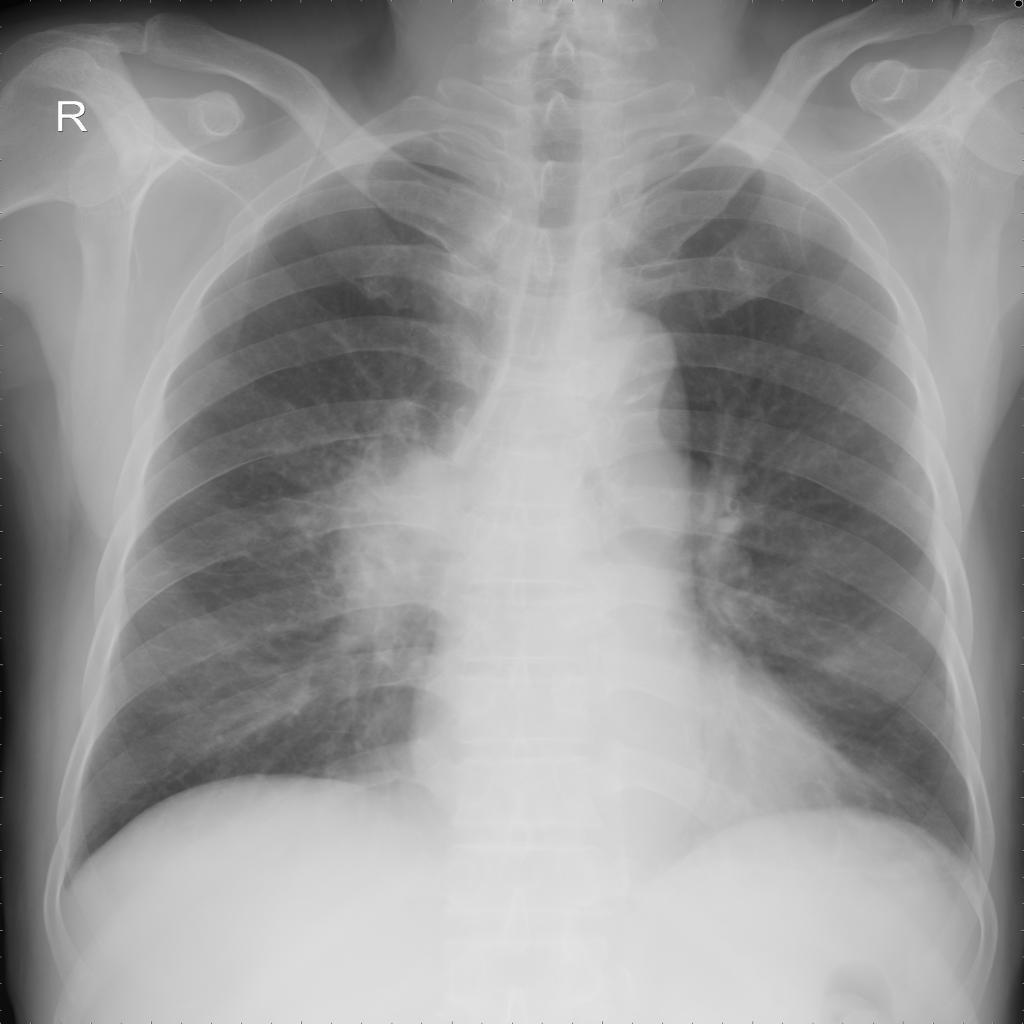Nodule: (328, 436, 449, 627)
